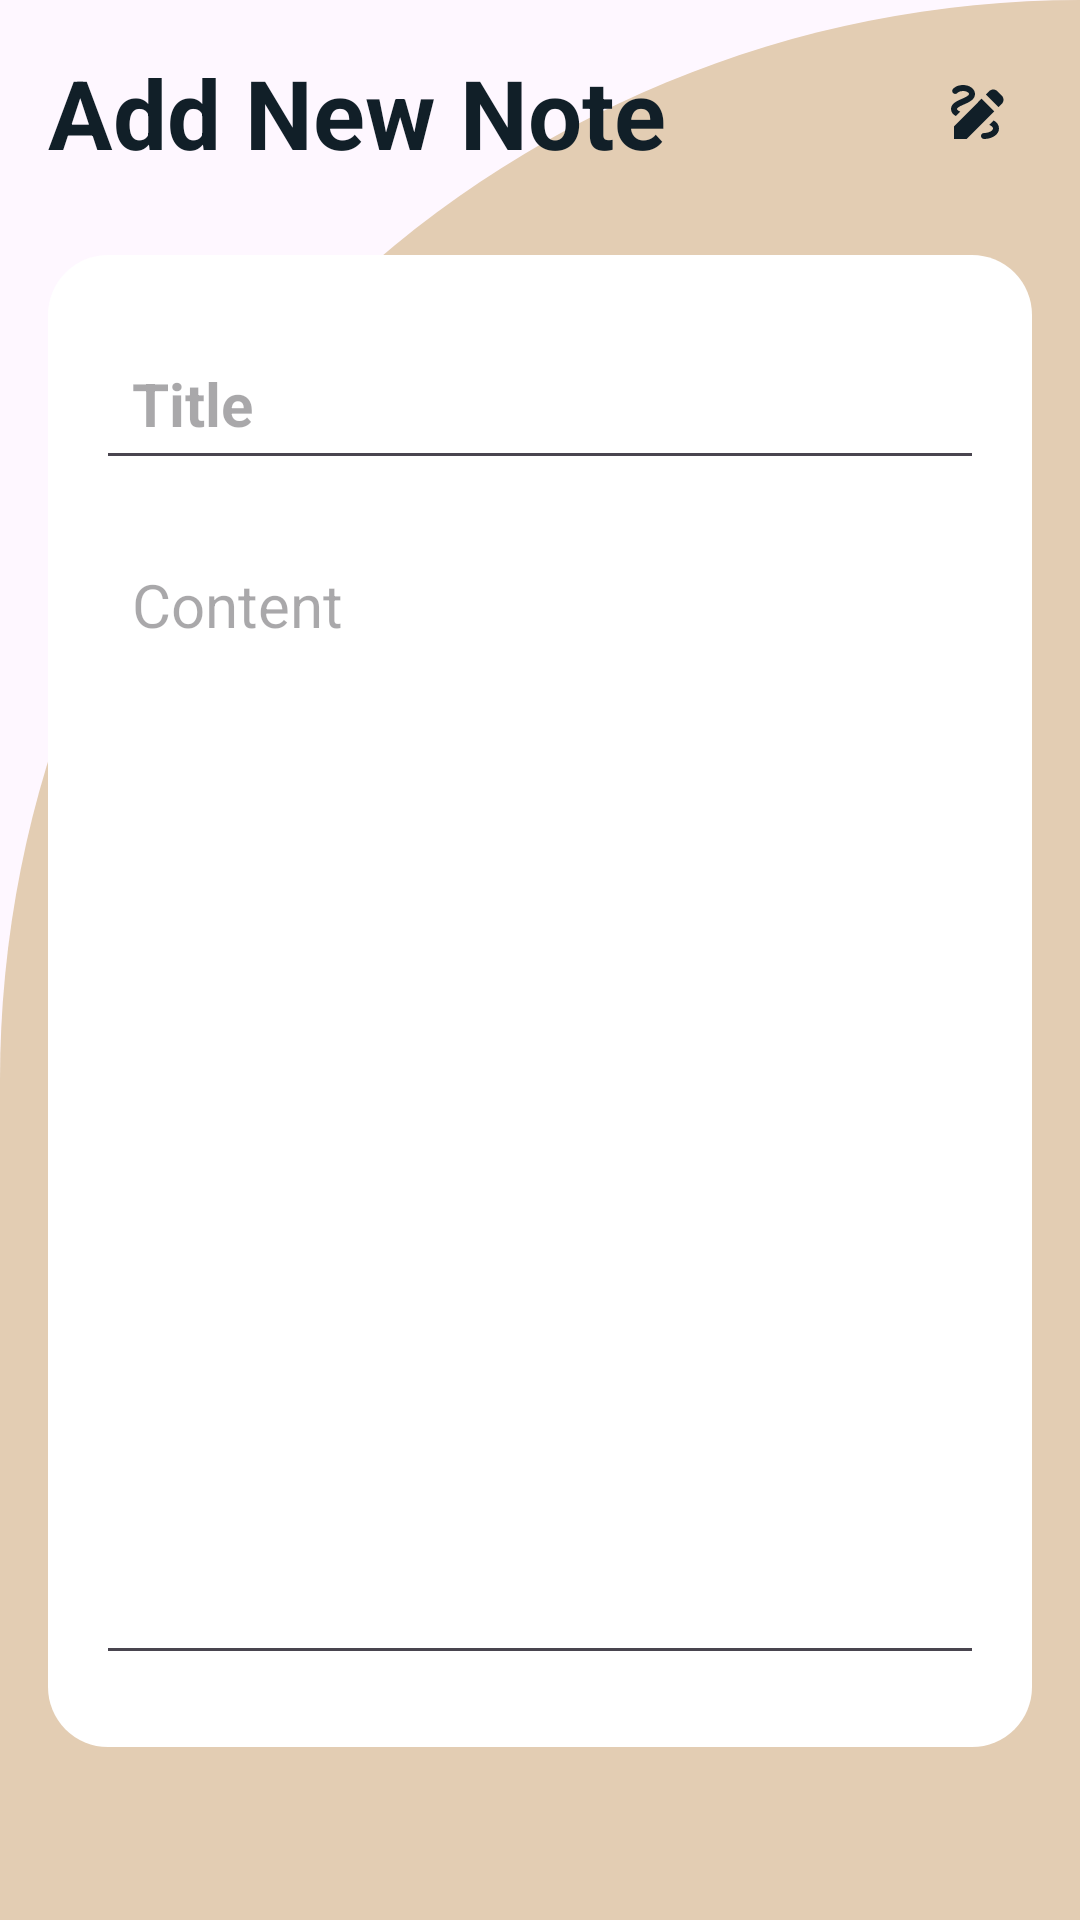

Screen size 1080px x 1920px. Icon name, then its center in pixels as [x,y]:
draw: [977,112]
